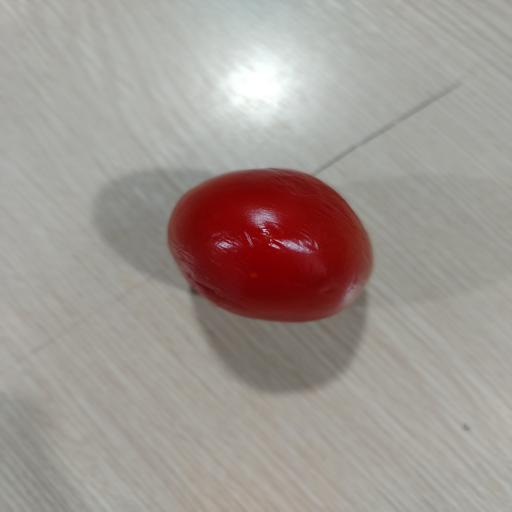overipe: (168, 169, 372, 321)
